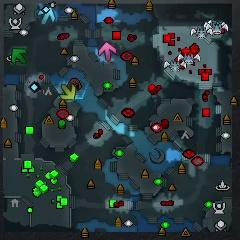x1: (99, 42, 117, 62)
x2: (60, 84, 76, 100)
x3: (37, 7, 56, 24)
x4: (11, 47, 27, 65)
